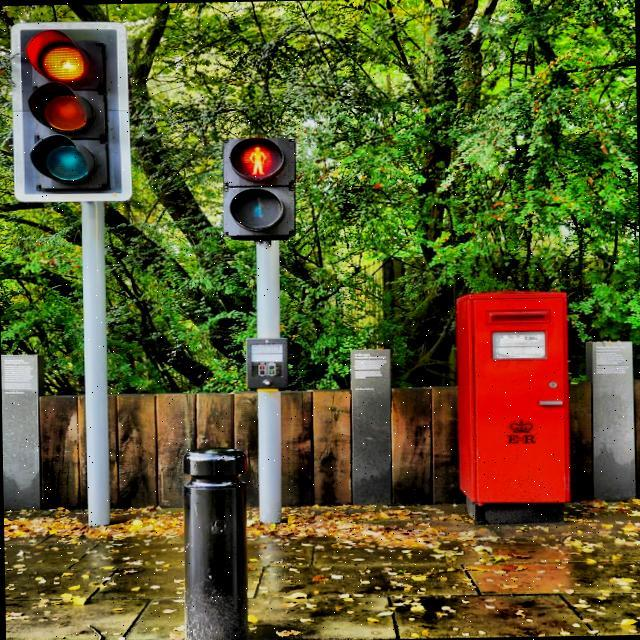red_light: (246, 144, 268, 176)
